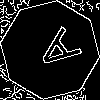A: (25, 25, 83, 80)
